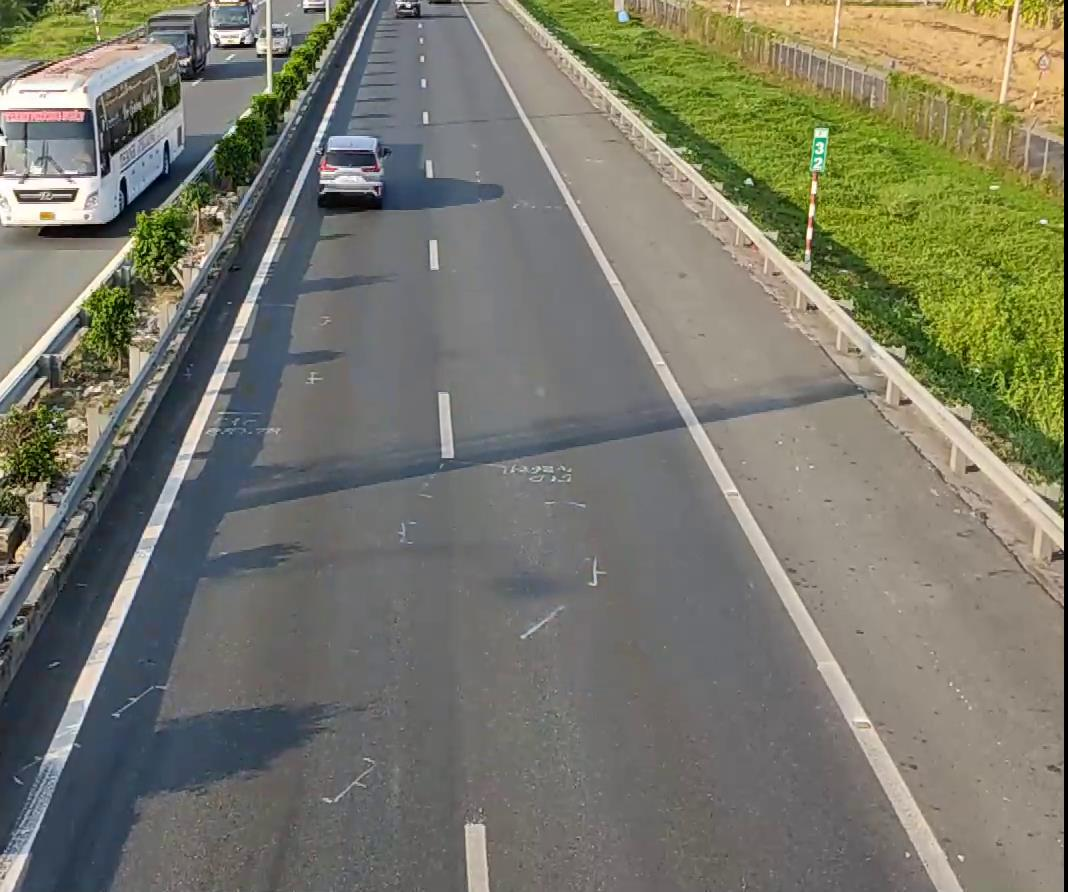bus: (0, 38, 188, 230)
car: (315, 132, 386, 206)
